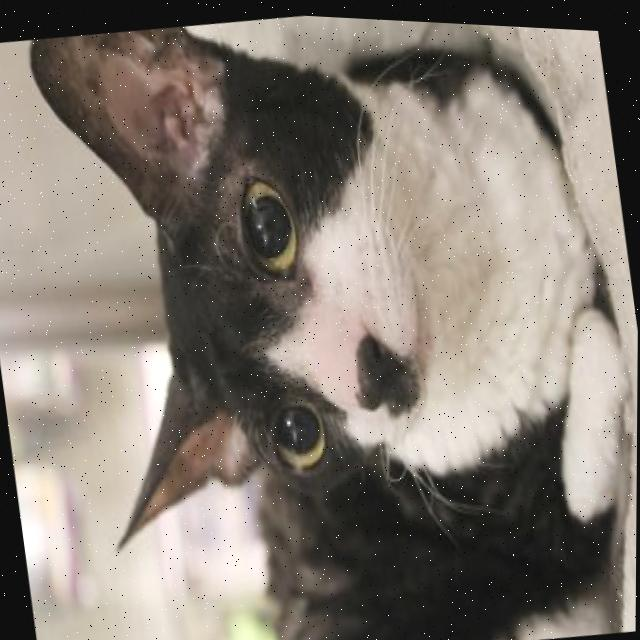Cornish Rex: (18, 1, 640, 640)
